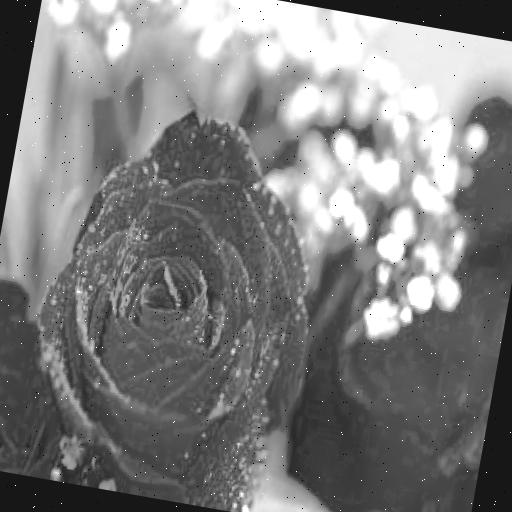rose: (9, 83, 345, 512), (0, 267, 79, 478)
